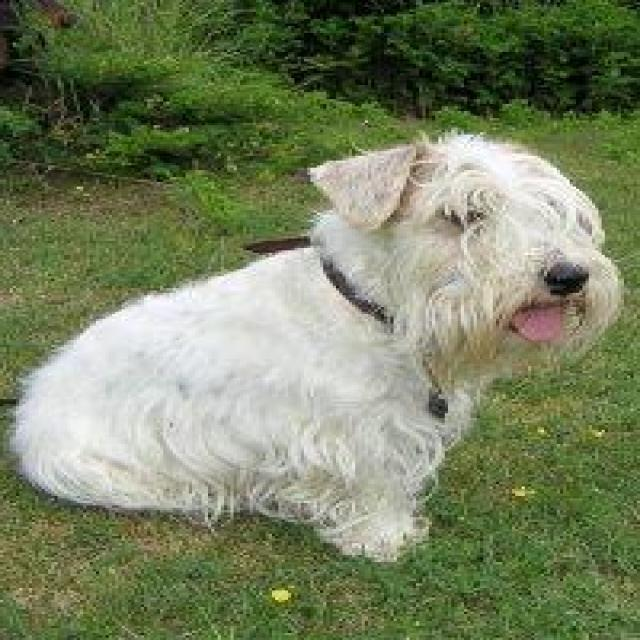adult_dog: (9, 137, 626, 559)
